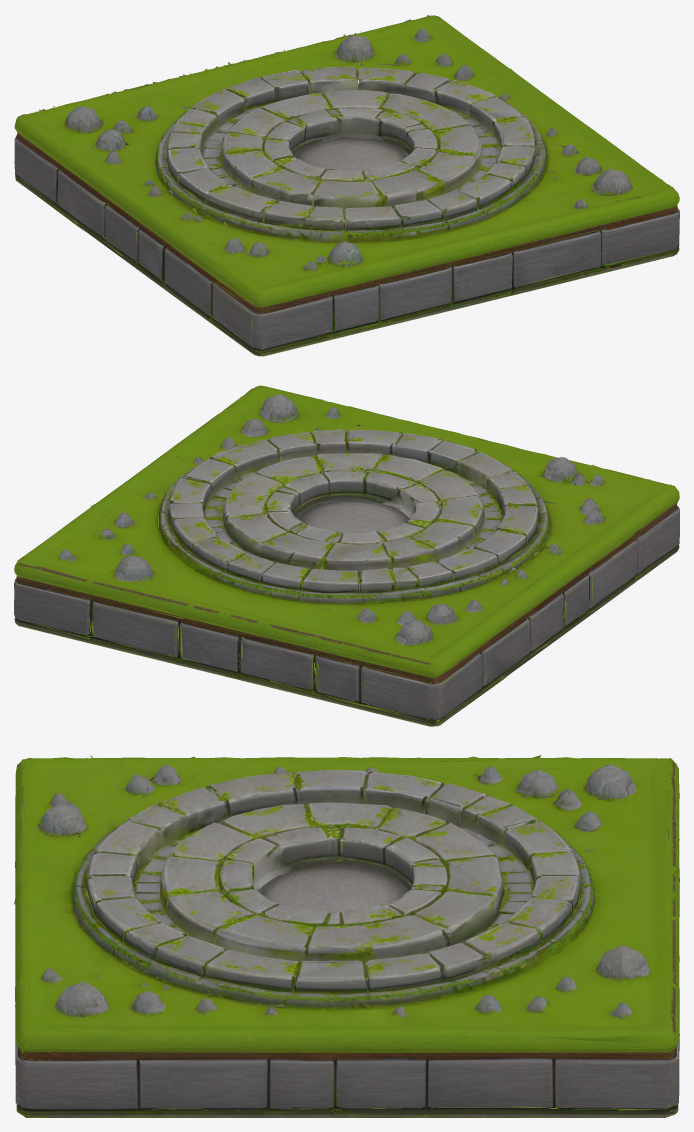
3 renders of one model, top to bottom at view 1: azimuth 30°, elevation 25°; view 2: azimuth 150°, elevation 25°; view 3: azimuth 270°, elevation 25°, orthographic. The views are drawn at different scales.
Parts seen in each view (by area): view 1: Circular_Stone_Pad_Optimized; view 2: Circular_Stone_Pad_Optimized; view 3: Circular_Stone_Pad_Optimized.
Boxes of the visible parts, x1,y1,x2,y2 form: Circular_Stone_Pad_Optimized: [14, 15, 679, 356]; Circular_Stone_Pad_Optimized: [14, 385, 679, 726]; Circular_Stone_Pad_Optimized: [14, 755, 679, 1117].
Size of the model in its own units: 0.8585 by 0.1542 by 0.86.
Materials: 1 (1 with a texture image).
